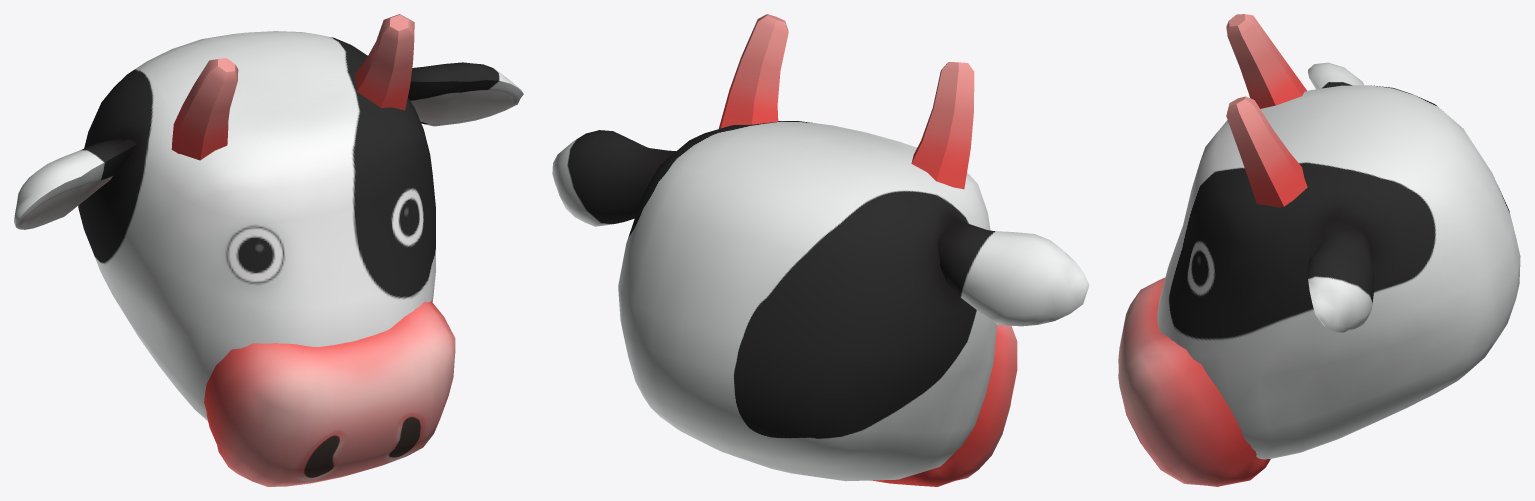
The model's file is CRT0110006.FBX.
3 renders of one model, left to right at view 1: azimuth 30°, elevation 25°; view 2: azimuth 150°, elevation 25°; view 3: azimuth 270°, elevation 25°, orthographic. The views are drawn at different scales.
Parts seen in each view (by area): view 1: smCRT0110006; view 2: smCRT0110006; view 3: smCRT0110006.
Part boxes in pixels (box(x1,y1,x2,y2)): smCRT0110006: box(14, 14, 523, 486); smCRT0110006: box(552, 14, 1089, 486); smCRT0110006: box(1118, 14, 1520, 486).
Bounding box in the file's own units: 0.1709 × 0.1358 × 0.1228.
Materials: 1 (1 with a texture image).
